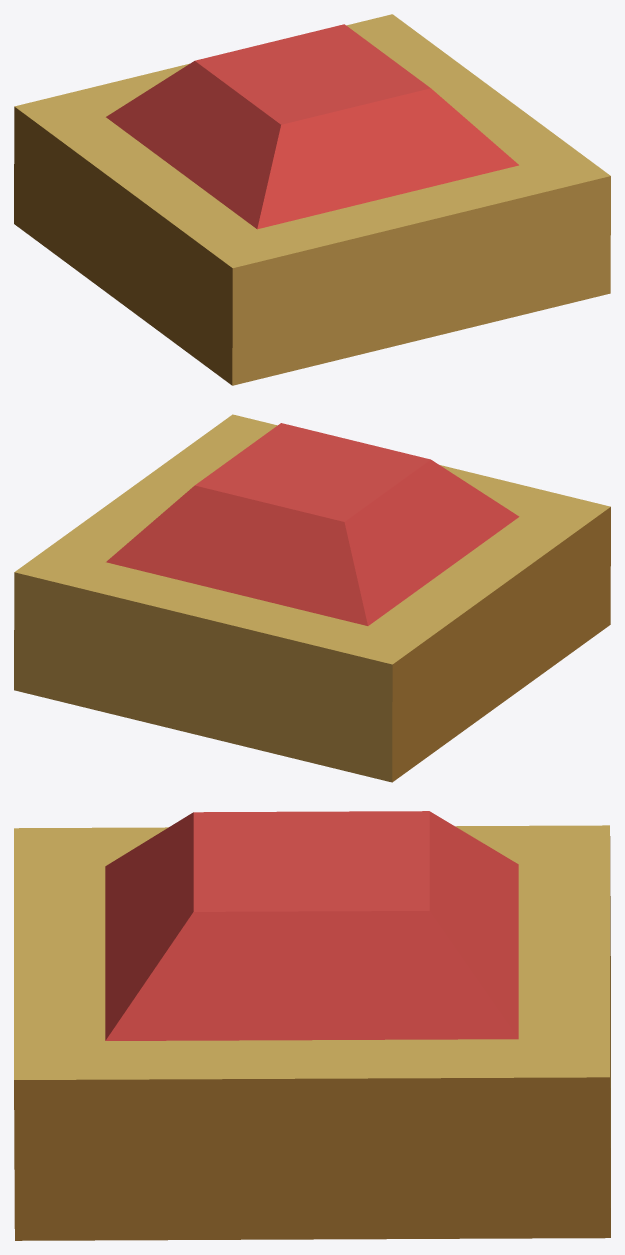
The model's file is SD_Prop_Gem_04.fbx.
The picture shows the model from 3 angles, top to bottom: view 1: azimuth 30°, elevation 25°; view 2: azimuth 150°, elevation 25°; view 3: azimuth 270°, elevation 25°; orthographic projection. The views are drawn at different scales.
Visible parts, largest first — view 1: SD_Prop_Gem_04; view 2: SD_Prop_Gem_04; view 3: SD_Prop_Gem_04.
Boxes of the visible parts, <box> form: SD_Prop_Gem_04: <box>14,14,610,385</box>; SD_Prop_Gem_04: <box>14,414,610,782</box>; SD_Prop_Gem_04: <box>14,811,610,1240</box>.
Size of the model in its own units: 0.2296 by 0.1079 by 0.2299.
